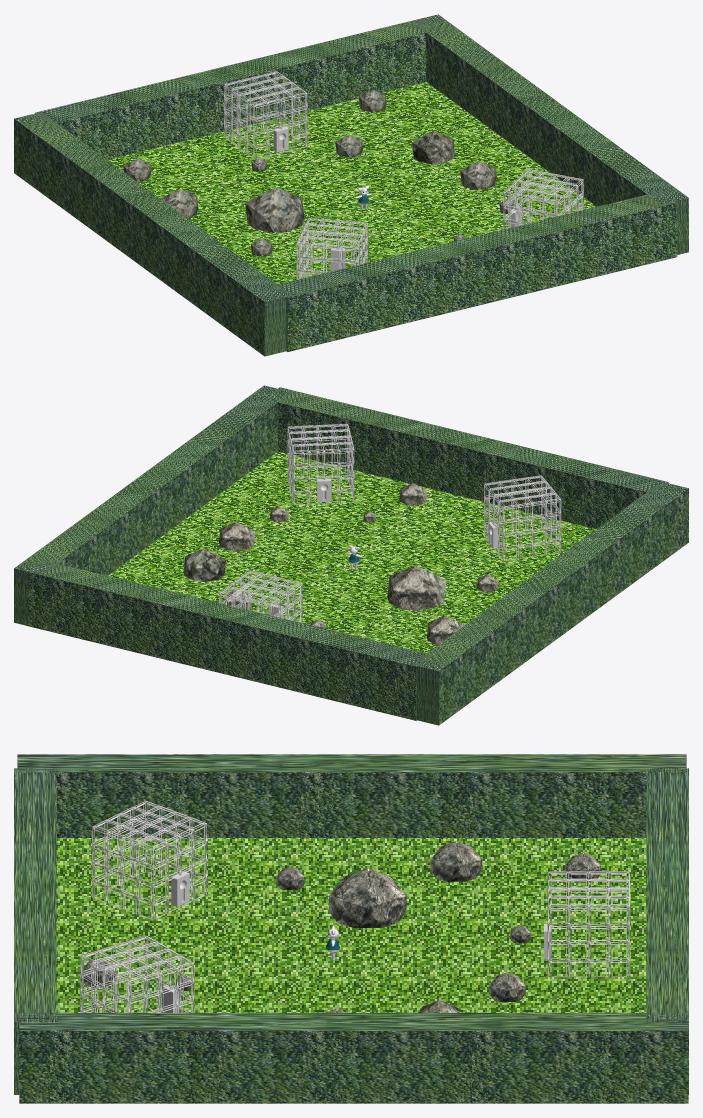
The model's file is env.gltf.
3 renders of one model, top to bottom at view 1: azimuth 30°, elevation 25°; view 2: azimuth 150°, elevation 25°; view 3: azimuth 270°, elevation 25°, orthographic. The views are drawn at different scales.
Parts seen in each view (by area): view 1: Plane, Plane.016, Plane.014, Plane.015, Plane.013, Cube.002, Cube.005, Cube.001, Plane.006, Plane.001, Plane.002, Plane.008; view 2: Plane, Plane.014, Plane.016, Plane.015, Plane.013, Cube.001, Cube.005, Cube.002, Plane.006, Plane.001, Plane.002, Plane.008; view 3: Plane, Plane.013, Plane.015, Plane.016, Plane.014, Cube.001, Cube.005, Cube.002, Plane.006, Plane.008, Plane.010, Plane.012 (+3 smaller).
Boxes of the visible parts, <box> form: Plane: <box>108,82,596,284</box>; Plane.016: <box>272,192,677,351</box>; Plane.014: <box>35,18,435,159</box>; Plane.015: <box>14,112,291,356</box>; Plane.013: <box>411,14,688,254</box>; Cube.002: <box>224,71,307,159</box>; Cube.005: <box>503,169,583,229</box>; Cube.001: <box>296,218,368,279</box>; Plane.006: <box>245,187,304,232</box>; Plane.001: <box>412,131,454,164</box>; Plane.002: <box>460,161,496,189</box>; Plane.008: <box>160,189,198,218</box>; Plane: <box>108,451,595,653</box>; Plane.014: <box>27,560,431,720</box>; Plane.016: <box>273,387,668,528</box>; Plane.015: <box>412,482,688,725</box>; Plane.013: <box>14,385,291,625</box>; Cube.001: <box>484,475,561,561</box>; Cube.005: <box>287,424,354,505</box>; Cube.002: <box>219,570,302,622</box>; Plane.006: <box>387,565,446,610</box>; Plane.001: <box>183,548,226,581</box>; Plane.002: <box>219,522,255,550</box>; Plane.008: <box>427,615,464,645</box>; Plane: <box>56,838,646,1012</box>; Plane.013: <box>19,1013,688,1103</box>; Plane.015: <box>17,754,686,837</box>; Plane.016: <box>14,768,56,1094</box>; Plane.014: <box>646,768,688,1094</box>; Cube.001: <box>92,800,206,920</box>; Cube.005: <box>80,935,194,1012</box>; Cube.002: <box>547,871,629,977</box>; Plane.006: <box>329,868,406,927</box>; Plane.008: <box>430,841,481,881</box>; Plane.010: <box>489,972,525,1001</box>; Plane.012: <box>564,852,600,882</box>.
Bounding box in the file's own units: 30.67 × 5.69 × 31.6.
